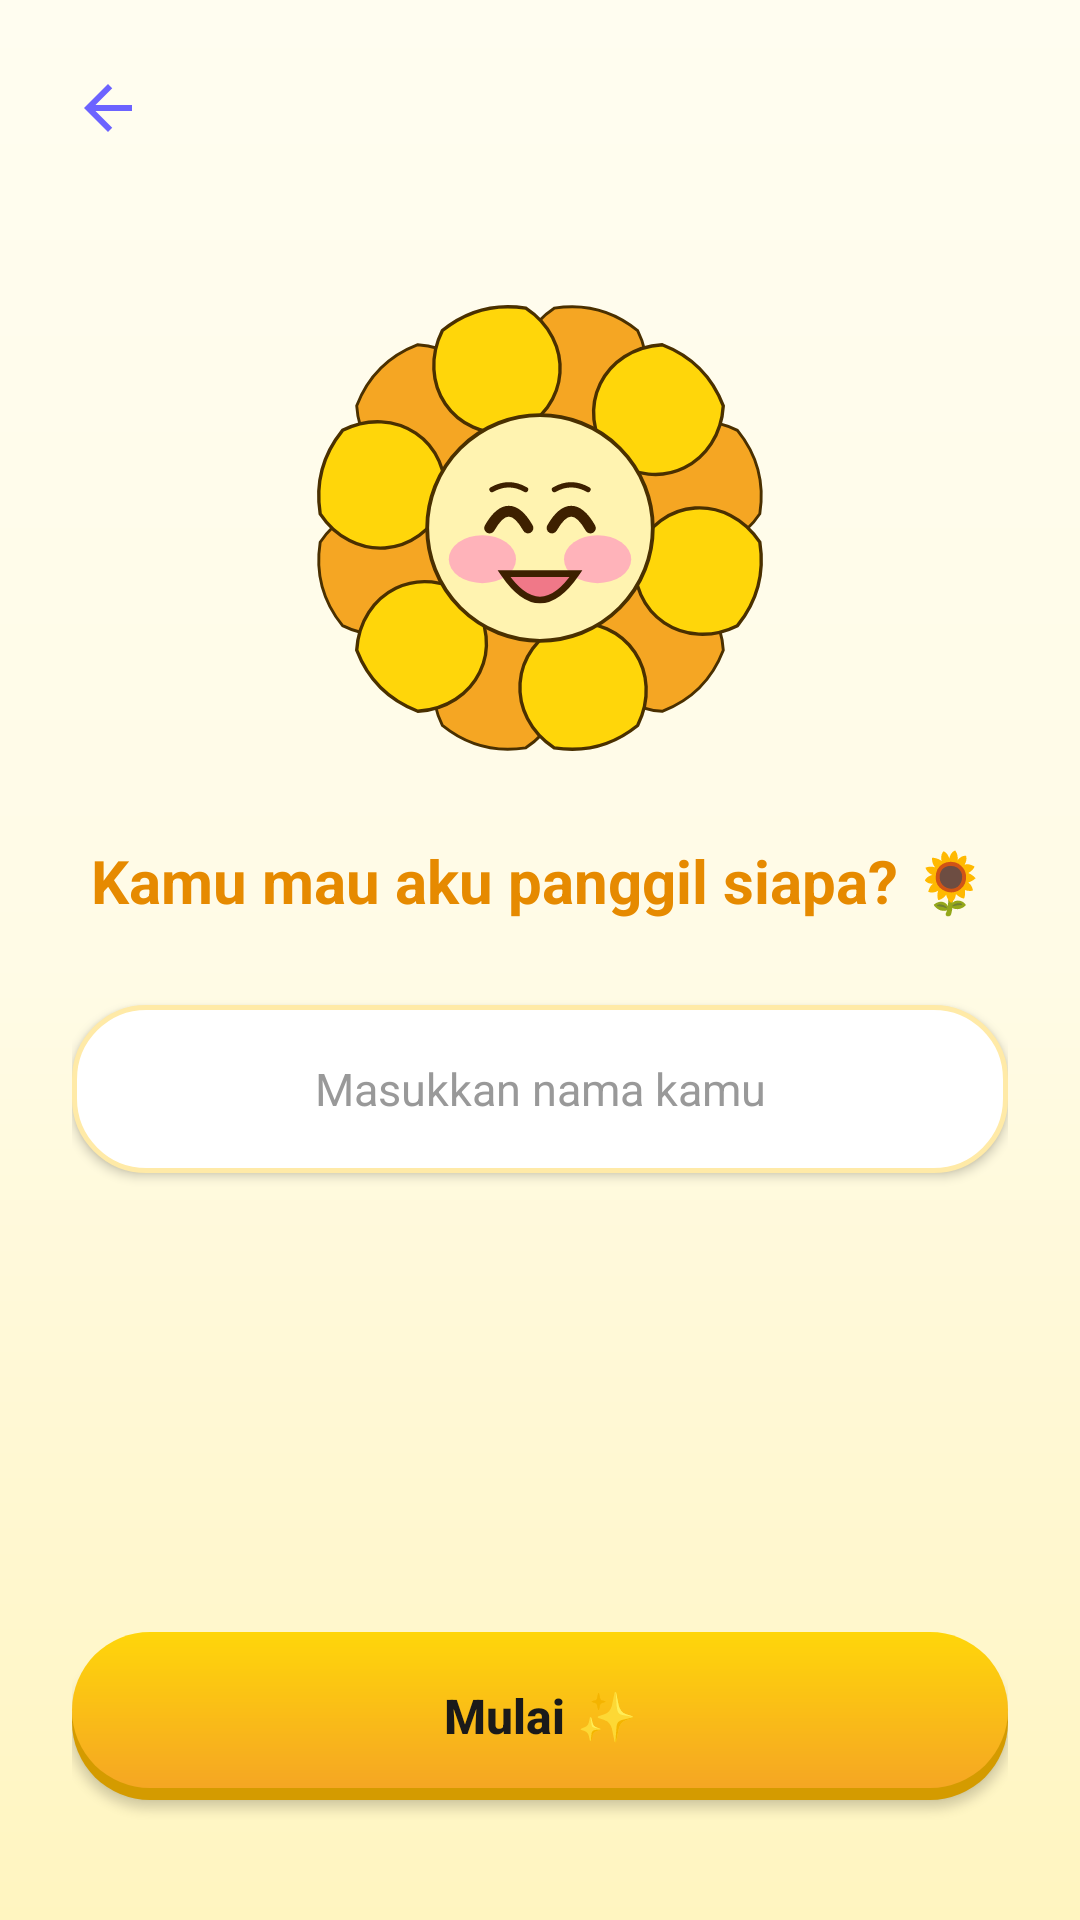

Named icons in this screenshot (1080px x 1920px) and their bounding boxes, (x1, y1, x2, y2):
Kembali: (84, 84, 132, 132)
